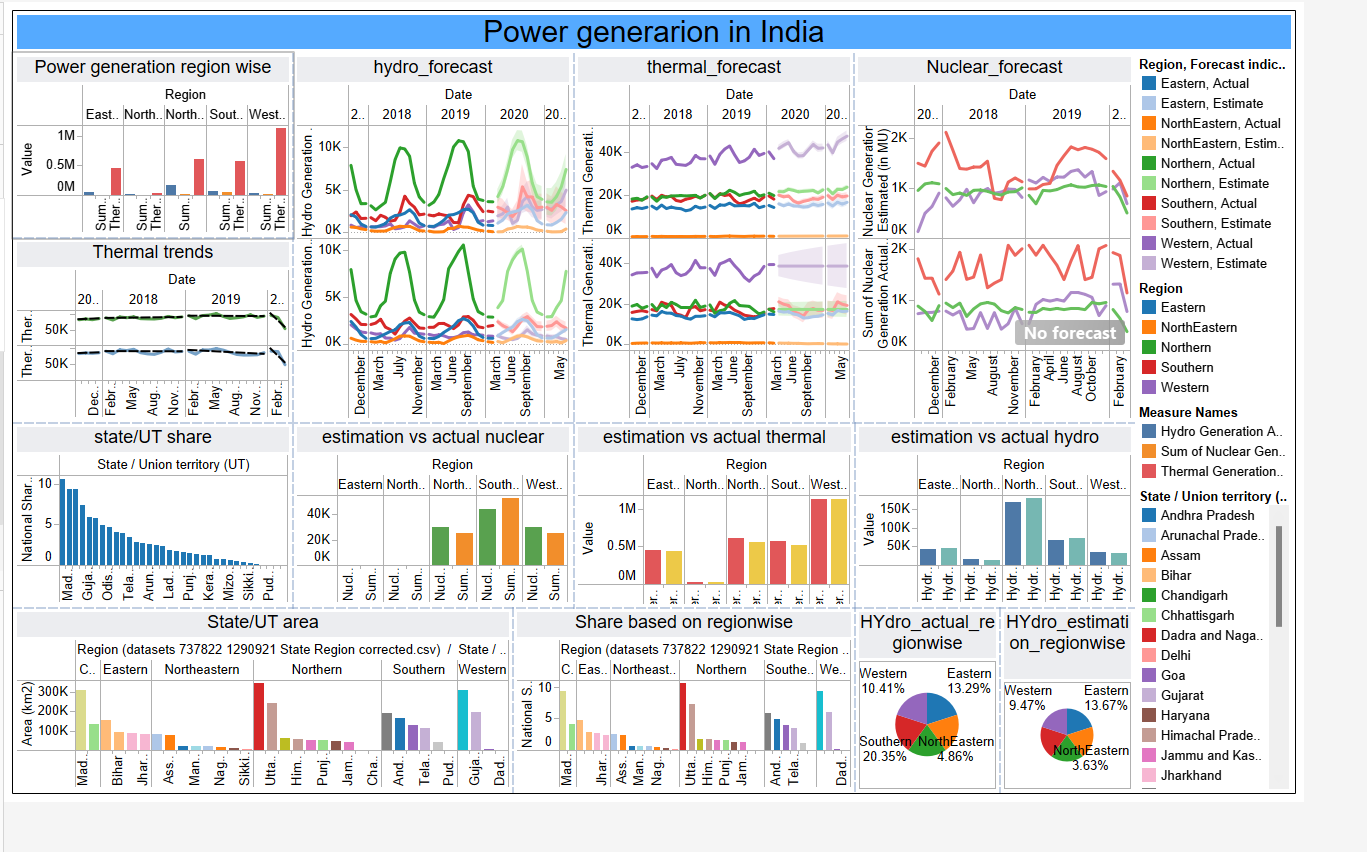

What the dashboard file says about the page in this screenshot:
{"tool":"tableau","page":{"name":"Power generarion in India","canvas":[1000,800],"ordinal":0},"visuals":[{"type":"title","box":[9,9,982,35]},{"type":"worksheet","title":"Power generation region wise","mark":"Automatic","cols":["Region"],"box":[9,44,205.5,186.7]},{"type":"worksheet","title":"hydro_forecast","mark":"Automatic","rows":["Hydro Generation Estimated (in MU)","Hydro Generation Actual (in MU)"],"cols":["Date","Date"],"box":[214.5,44,205.5,373.5]},{"type":"worksheet","title":"thermal_forecast","mark":"Automatic","rows":["Thermal Generation Actual (in MU)","Thermal Generation Estimated (in MU)"],"cols":["Date","Date"],"box":[420,44,205.5,373.5]},{"type":"worksheet","title":"Nuclear_forecast","mark":"Automatic","rows":["Nuclear Generation Estimated (in MU)","Nuclear Generation Actual (in MU)"],"cols":["Date","Date"],"box":[625.5,44,205.5,373.5]},{"type":"legend","title":"thermal_forecast","param":"[federated.0weyb5t110zx2g1169ydn0a6qe8p].[none:Region:nk]\n[federated.0weyb5t110z","box":[831,44,160,222]},{"type":"worksheet","title":"Thermal trends","mark":"Automatic","rows":["Thermal Generation Actual (in MU)","Thermal Generation Estimated (in MU)"],"cols":["Date","Date"],"box":[9,230.7,205.5,186.8]},{"type":"legend","title":"HYdro_estimation_regionwise","param":"[federated.0weyb5t110zx2g1169ydn0a6qe8p].[none:Region:nk]","box":[831,266,160,122]},{"type":"legend","title":"Power generation region wise","param":"[federated.0weyb5t110zx2g1169ydn0a6qe8p].[:Measure Names]","box":[831,388,160,82]},{"type":"worksheet","title":"state/UT share","mark":"Automatic","rows":["National Share (%)"],"cols":["State / Union territory (UT)"],"box":[9,417.5,205.5,186.7]},{"type":"worksheet","title":"estimation vs actual nuclear","mark":"Automatic","cols":["Region"],"box":[214.5,417.5,205.5,186.7]},{"type":"worksheet","title":"estimation vs actual thermal","mark":"Automatic","cols":["Region"],"box":[420,417.5,206,186.7]},{"type":"worksheet","title":"estimation vs actual hydro","mark":"Automatic","cols":["Region"],"box":[626,417.5,205,186.7]},{"type":"legend","title":"State/UT area","param":"[federated.0weyb5t110zx2g1169ydn0a6qe8p].[none:State / Union territory (UT):nk]","box":[831,470,160,321]},{"type":"worksheet","title":"State/UT area","mark":"Automatic","rows":["Area (km2)"],"cols":["Region (datasets_737822_1290921_State_Region_corrected.csv)","State / Union territory (UT)"],"box":[9,604.2,366.1,186.8]},{"type":"worksheet","title":"Share based on regionwise","mark":"Automatic","rows":["National Share (%)"],"cols":["Region (datasets_737822_1290921_State_Region_corrected.csv)","State / Union territory (UT)"],"box":[375.1,604.2,250.9,186.8]},{"type":"worksheet","title":"HYdro_actual_regionwise","mark":"Pie","box":[626,604.2,106,186.8]},{"type":"worksheet","title":"HYdro_estimation_regionwise","mark":"Pie","box":[732,604.2,99,186.8]}]}

Visuals, with their boxes on the page's 1000x800 design canvas (x1, y1, x2, y2). These are canvas units, not pixel positions in the 1367x852 screenshot, which may show the page scaled, cropped or inside an application window:
title: 9/9/991/44
"Power generation region wise" worksheet: 9/44/214/231
"hydro_forecast" worksheet: 214/44/420/418
"thermal_forecast" worksheet: 420/44/626/418
"Nuclear_forecast" worksheet: 626/44/831/418
"thermal_forecast" legend: 831/44/991/266
"Thermal trends" worksheet: 9/231/214/418
"HYdro_estimation_regionwise" legend: 831/266/991/388
"Power generation region wise" legend: 831/388/991/470
"state/UT share" worksheet: 9/418/214/604
"estimation vs actual nuclear" worksheet: 214/418/420/604
"estimation vs actual thermal" worksheet: 420/418/626/604
"estimation vs actual hydro" worksheet: 626/418/831/604
"State/UT area" legend: 831/470/991/791
"State/UT area" worksheet: 9/604/375/791
"Share based on regionwise" worksheet: 375/604/626/791
"HYdro_actual_regionwise" worksheet (Pie marks): 626/604/732/791
"HYdro_estimation_regionwise" worksheet (Pie marks): 732/604/831/791
